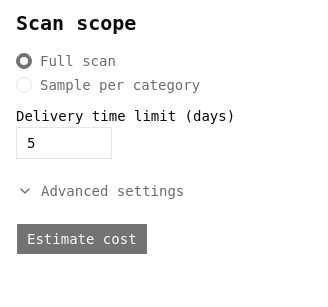
Scenario: ScopeEstimateStep › shows the API error message when creating the scan fails
This screenshot has width=328, height=307.
Click the button "Estimate cost" at x=82, y=239, box [16,223,148,255]
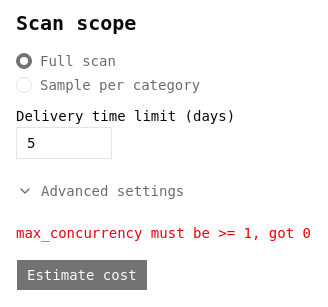
Check: the text "max_concurrency must be >= 1, got 0" is shown, box [16,225,311,241]
